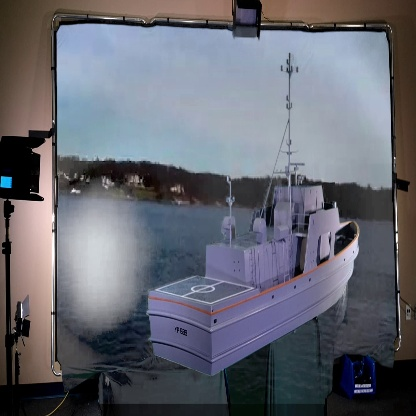YP689: (141, 59, 364, 380)
